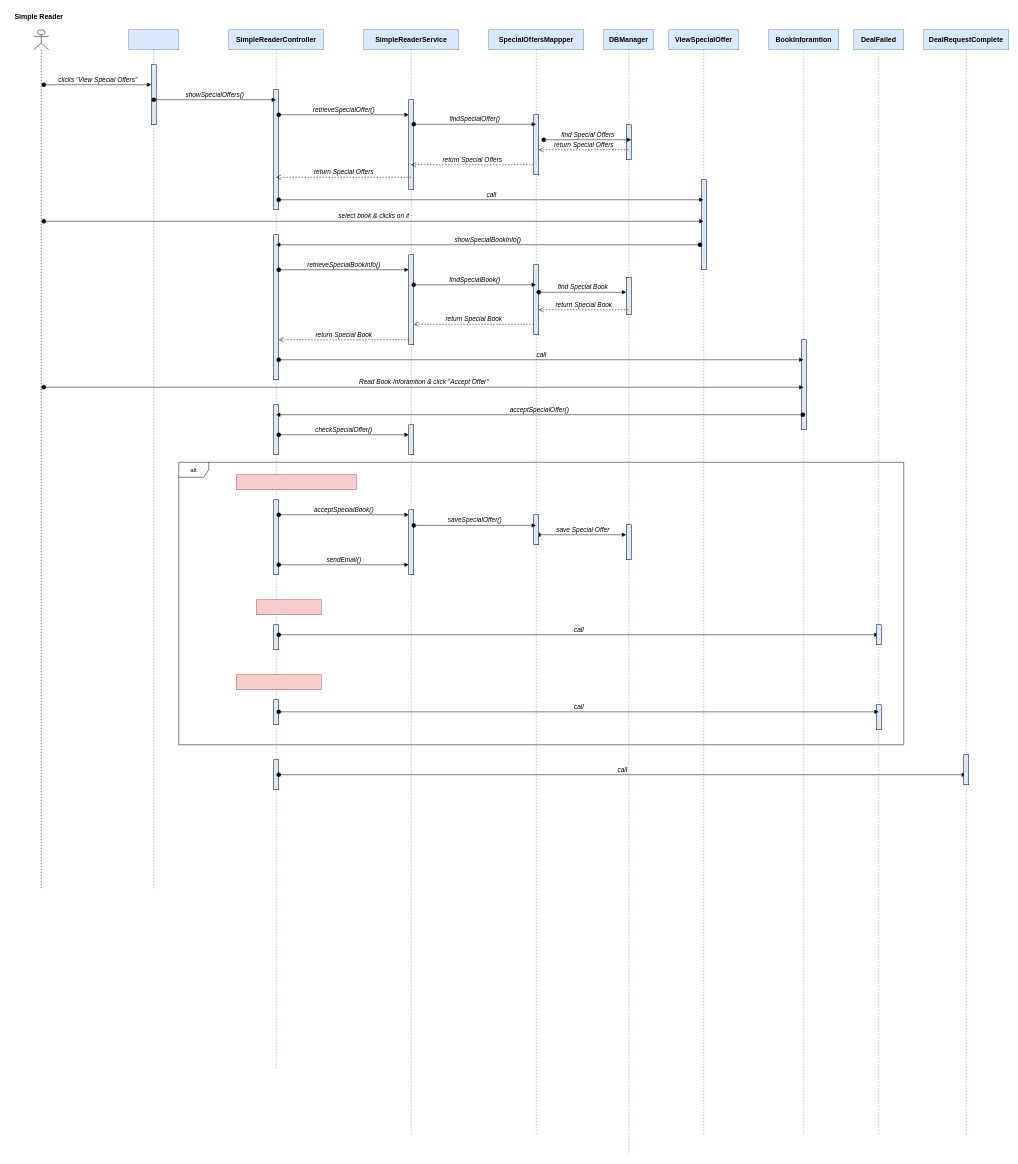
The diagram is 1018 pixels wide and 1164 high, and some of its shapes have lost their labels. Each missing label, with the box of its shape:
Accept Special Offer & Send Email: (236, 474, 356, 490)
Already Accepted Offer: (236, 674, 321, 690)
MyRequests: (128, 29, 179, 890)
Unavailable Offer: (256, 599, 321, 615)
